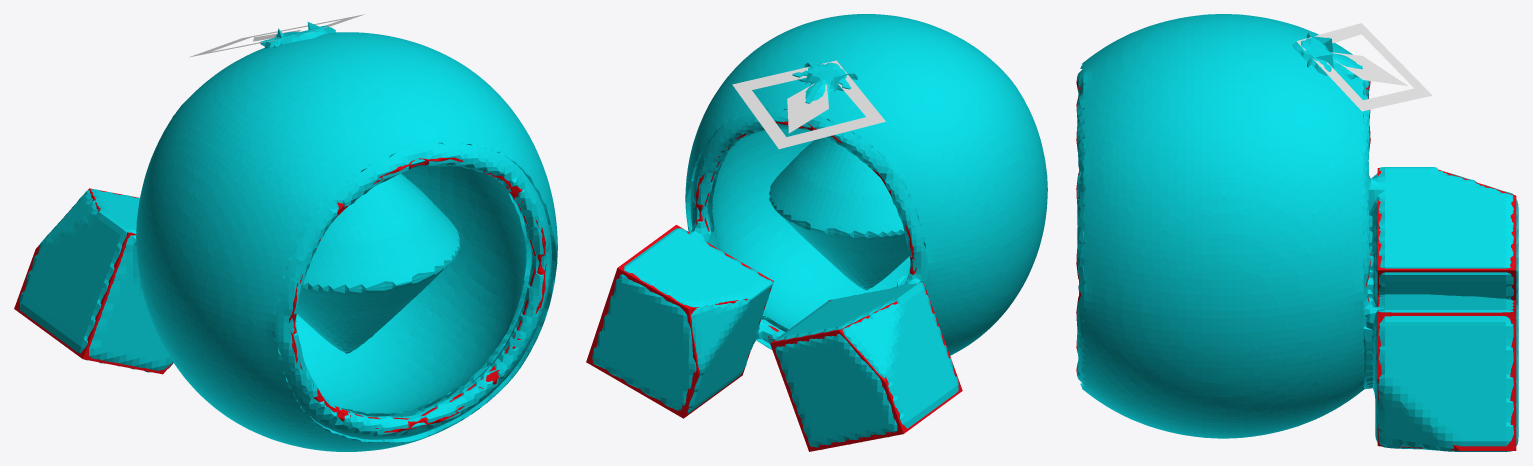
Rendered from Gun3.fbx.
3 views of the same model, side by side, from view 1: azimuth 30°, elevation 25°; view 2: azimuth 150°, elevation 25°; view 3: azimuth 270°, elevation 25° (orthographic). The views are drawn at different scales.
Parts seen in each view (by area): view 1: Torus, Torus.001; view 2: Torus, Torus.001; view 3: Torus, Torus.001.
Boxes of the visible parts, left/top/right/bottom form: Torus: left=19, top=22, right=557, bottom=451; Torus.001: left=14, top=14, right=546, bottom=432; Torus: left=592, top=14, right=1047, bottom=449; Torus.001: left=586, top=60, right=962, bottom=451; Torus: left=1076, top=14, right=1518, bottom=451; Torus.001: left=1076, top=23, right=1516, bottom=450.
Size of the model in its own units: 176 by 171 by 181.
